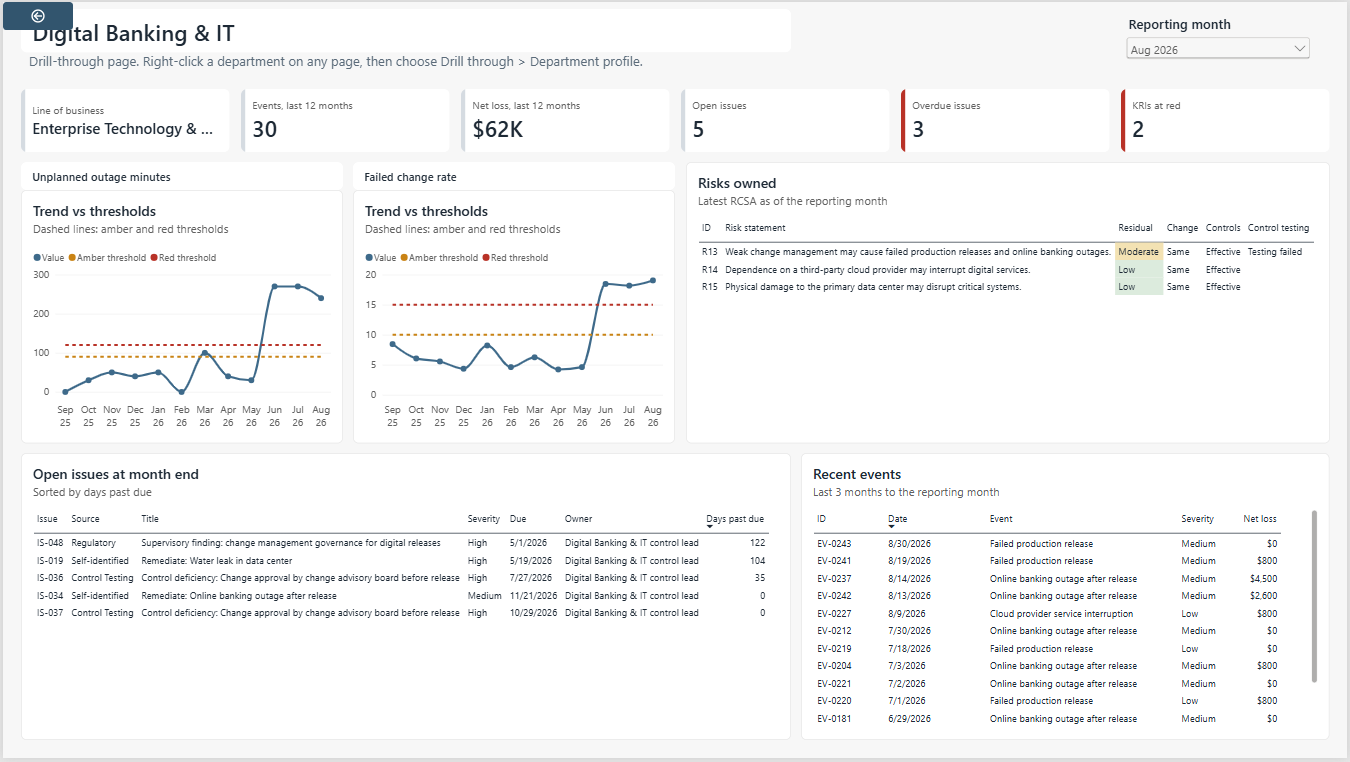

What the dashboard file says about the page in this screenshot:
{"tool":"powerbi","page":{"name":"Department profile","canvas":[1920,1080],"ordinal":3},"visuals":[{"type":"cardVisual","fields":{"Data":["_Measures.Dept Title"]},"box":[25,10,1100,62],"z":0},{"type":"textbox","box":[37.1,71.4,1088.6,44.3],"z":1000},{"type":"slicer","fields":{"Values":["ReportMonth.Reporting month"]},"box":[1600,19,272,92],"z":2000},{"type":"cardVisual","fields":{"Data":["_Measures.Dept LOB"]},"box":[25,124,298.3,90],"z":3000},{"type":"cardVisual","fields":{"Data":["_Measures.Events 12M"]},"box":[339.3,124,298.3,90],"z":4000},{"type":"cardVisual","fields":{"Data":["_Measures.Net Loss 12M"]},"box":[653.7,124,298.3,90],"z":5000},{"type":"cardVisual","fields":{"Data":["_Measures.Open Issues (Sel)"]},"box":[968,124,298.3,90],"z":6000},{"type":"cardVisual","fields":{"Data":["_Measures.Overdue Issues (Sel)"]},"box":[1282.3,124,298.3,90],"z":7000},{"type":"cardVisual","fields":{"Data":["_Measures.KRIs Red (Sel)"]},"box":[1596.7,124,298.3,90],"z":8000},{"type":"cardVisual","fields":{"Data":["Max(KRI.KRIName)"]},"box":[25,228,460,40],"z":9000},{"type":"lineChart","title":"Trend vs thresholds","fields":{"Category":["Dim_Date.MonthShort"],"Y":["_Measures.KRI Value (Trend)","_Measures.KRI Amber Line","_Measures.KRI Red Line"]},"box":[25,268,460,362],"z":10000},{"type":"cardVisual","fields":{"Data":["Max(KRI.KRIName)"]},"box":[500,228,460,40],"z":11000},{"type":"lineChart","title":"Trend vs thresholds","fields":{"Category":["Dim_Date.MonthShort"],"Y":["_Measures.KRI Value (Trend)","_Measures.KRI Amber Line","_Measures.KRI Red Line"]},"box":[500,268,460,362],"z":12000},{"type":"tableEx","title":"Risks owned","fields":{"Values":["Dim_Risk.RiskID","Dim_Risk.RiskStatement","_Measures.Residual Rating","_Measures.Residual Change","_Measures.Control Effectiveness","_Measures.Self-Assessment Gap"]},"box":[975,228,920,402],"z":13000},{"type":"tableEx","title":"Open issues at month end","fields":{"Values":["IssueSnapshot.IssueID","IssueSnapshot.IssueSource","IssueSnapshot.Title","IssueSnapshot.Severity","IssueSnapshot.DueDate","IssueSnapshot.Owner","_Measures.Days Past Due (Sel)"]},"box":[25,645,1100,410],"z":14000},{"type":"tableEx","title":"Recent events","fields":{"Values":["Events.EventID","Events.EventDate","Events.Title","Events.Severity","_Measures.Net Loss"]},"box":[1140,645,755,410],"z":15000},{"type":"actionButton","box":[0,0,100,40],"z":16000}]}

Visuals, with their boxes on the page's 1920x1080 design canvas (x1, y1, x2, y2). These are canvas units, not pixel positions in the 1350x762 screenshot, which may show the page scaled, cropped or inside an application window:
cardVisual - _Measures.Dept Title: bbox=[25, 10, 1125, 72]
textbox: bbox=[37, 71, 1126, 116]
slicer - ReportMonth.Reporting month: bbox=[1600, 19, 1872, 111]
cardVisual - _Measures.Dept LOB: bbox=[25, 124, 323, 214]
cardVisual - _Measures.Events 12M: bbox=[339, 124, 638, 214]
cardVisual - _Measures.Net Loss 12M: bbox=[654, 124, 952, 214]
cardVisual - _Measures.Open Issues (Sel): bbox=[968, 124, 1266, 214]
cardVisual - _Measures.Overdue Issues (Sel): bbox=[1282, 124, 1581, 214]
cardVisual - _Measures.KRIs Red (Sel): bbox=[1597, 124, 1895, 214]
cardVisual - Max(KRI.KRIName): bbox=[25, 228, 485, 268]
"Trend vs thresholds" lineChart: bbox=[25, 268, 485, 630]
cardVisual - Max(KRI.KRIName): bbox=[500, 228, 960, 268]
"Trend vs thresholds" lineChart: bbox=[500, 268, 960, 630]
"Risks owned" tableEx: bbox=[975, 228, 1895, 630]
"Open issues at month end" tableEx: bbox=[25, 645, 1125, 1055]
"Recent events" tableEx: bbox=[1140, 645, 1895, 1055]
actionButton: bbox=[0, 0, 100, 40]
